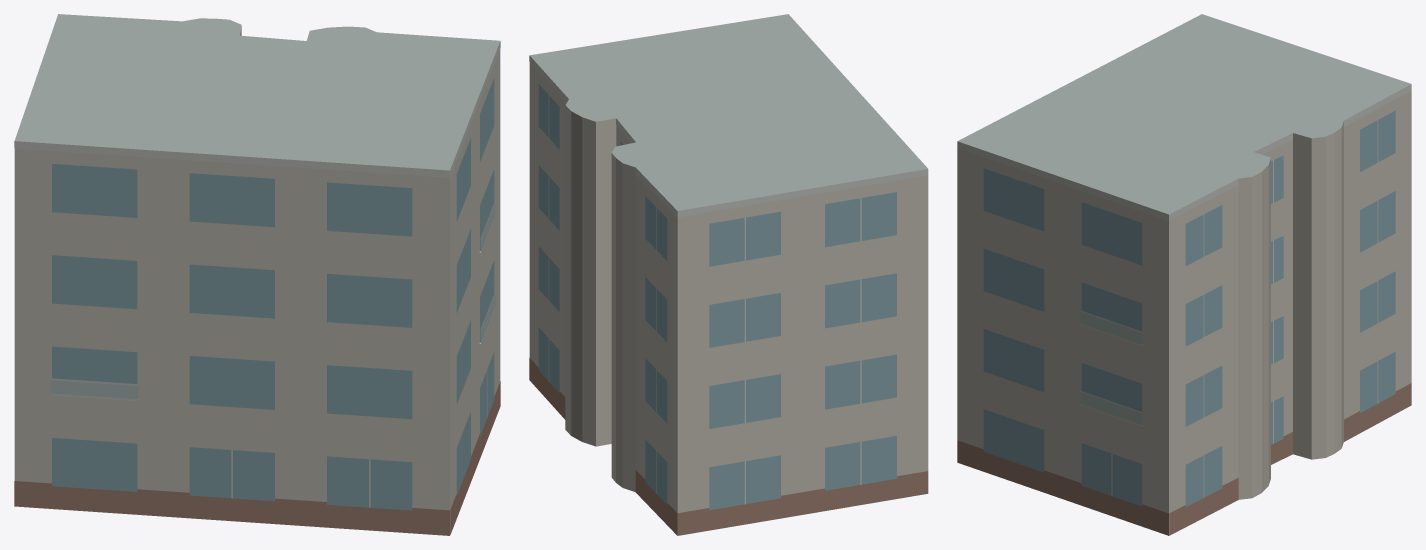
File: survey-upis-32883442.glb
The picture shows the model from 3 angles, left to right: view 1: azimuth 30°, elevation 25°; view 2: azimuth 150°, elevation 25°; view 3: azimuth 270°, elevation 25°; orthographic projection. The views are drawn at different scales.
Visible parts, largest first — view 1: survey-upis-32883442.tmp; view 2: survey-upis-32883442.tmp; view 3: survey-upis-32883442.tmp.
Boxes of the visible parts, x1,y1,x2,y2 form: survey-upis-32883442.tmp: (14, 14, 500, 535); survey-upis-32883442.tmp: (529, 14, 928, 535); survey-upis-32883442.tmp: (957, 14, 1411, 535).
Bounding box in the file's own units: 16.34 × 12.2 × 15.64.
